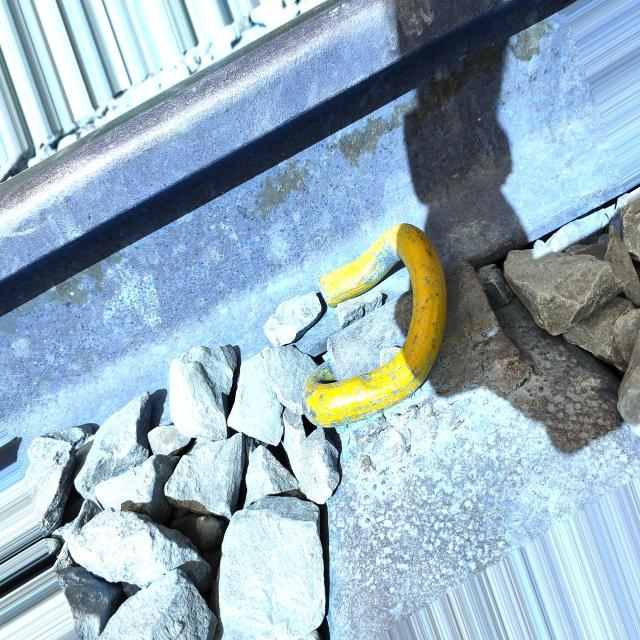Good Fasteners: (293, 224, 531, 638)
